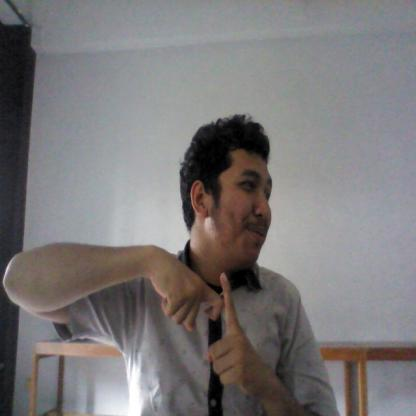K: (154, 250, 252, 392)
